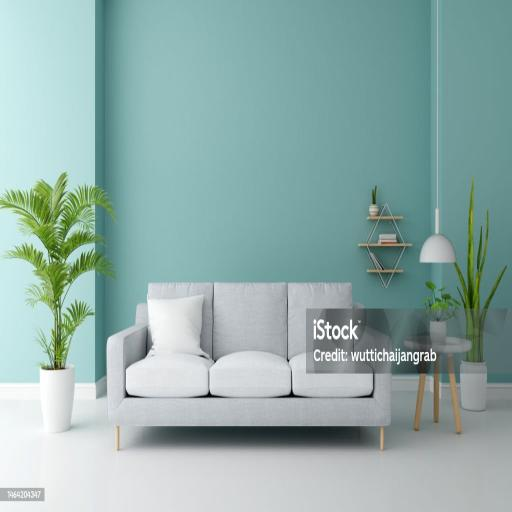back_cushion: (148, 283, 364, 359)
base: (120, 398, 390, 425)
left_arm: (370, 362, 392, 424), (359, 329, 392, 353)
legs: (380, 426, 384, 450), (115, 427, 119, 450)
right_arm: (107, 324, 146, 421)
seat_cushion: (126, 351, 373, 397)
stallion-sofa: (107, 283, 390, 449)
